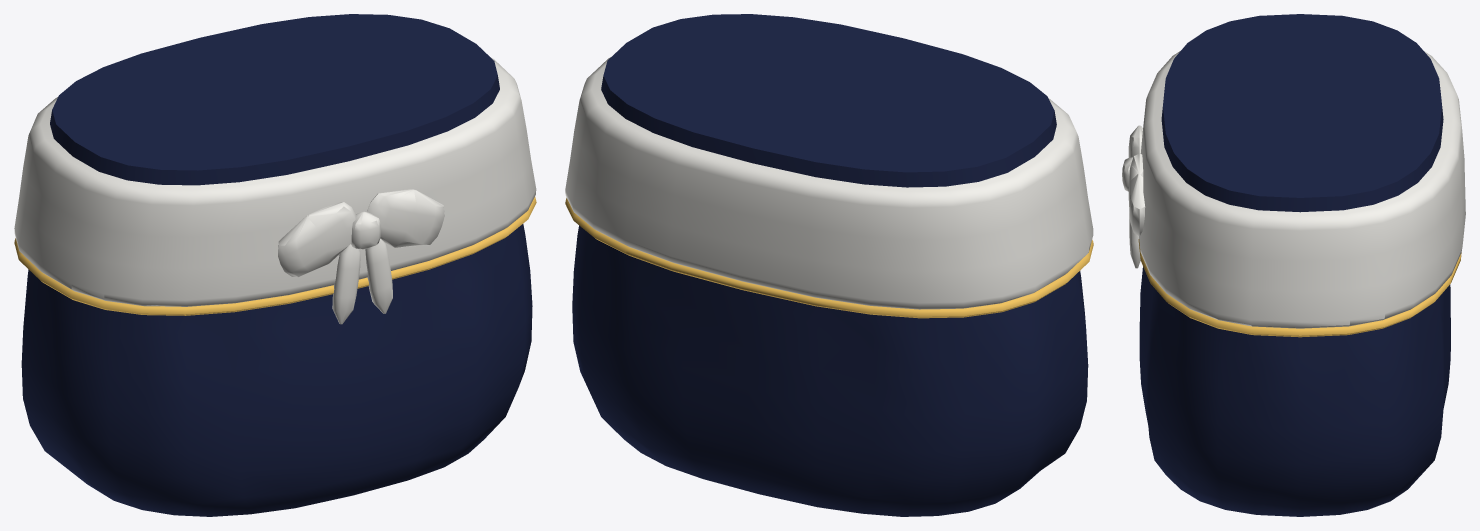
File: pelvis.glb
The picture shows the model from 3 angles, left to right: view 1: azimuth 30°, elevation 25°; view 2: azimuth 150°, elevation 25°; view 3: azimuth 270°, elevation 25°; orthographic projection. The views are drawn at different scales.
Visible parts, largest first — view 1: OUT; view 2: OUT; view 3: OUT.
Boxes of the visible parts, box(x1,y1,x2,y2) form: OUT: box(14, 14, 536, 516); OUT: box(565, 14, 1093, 516); OUT: box(1122, 14, 1465, 516).
Size of the model in its own units: 0.3492 by 0.255 by 0.2353.
